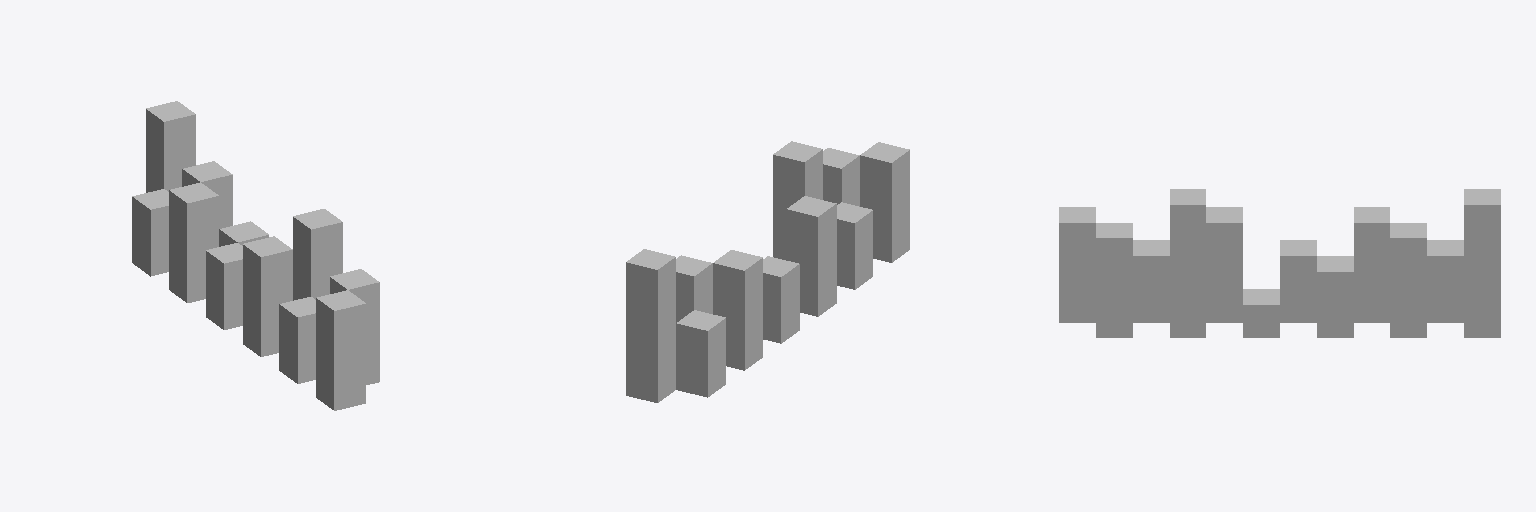
File: Cerca 2.obj
3 views of the same model, side by side, from view 1: azimuth 30°, elevation 25°; view 2: azimuth 150°, elevation 25°; view 3: azimuth 270°, elevation 25° (orthographic).
Parts seen in each view (by area): view 1: object 1; view 2: object 1; view 3: object 1.
Boxes of the visible parts, x1=… form: object 1: x1=132, y1=101, x2=379, y2=410; object 1: x1=626, y1=141, x2=909, y2=402; object 1: x1=1059, y1=189, x2=1500, y2=337.
Size of the model in its own units: 0.2 by 0.4 by 1.2.